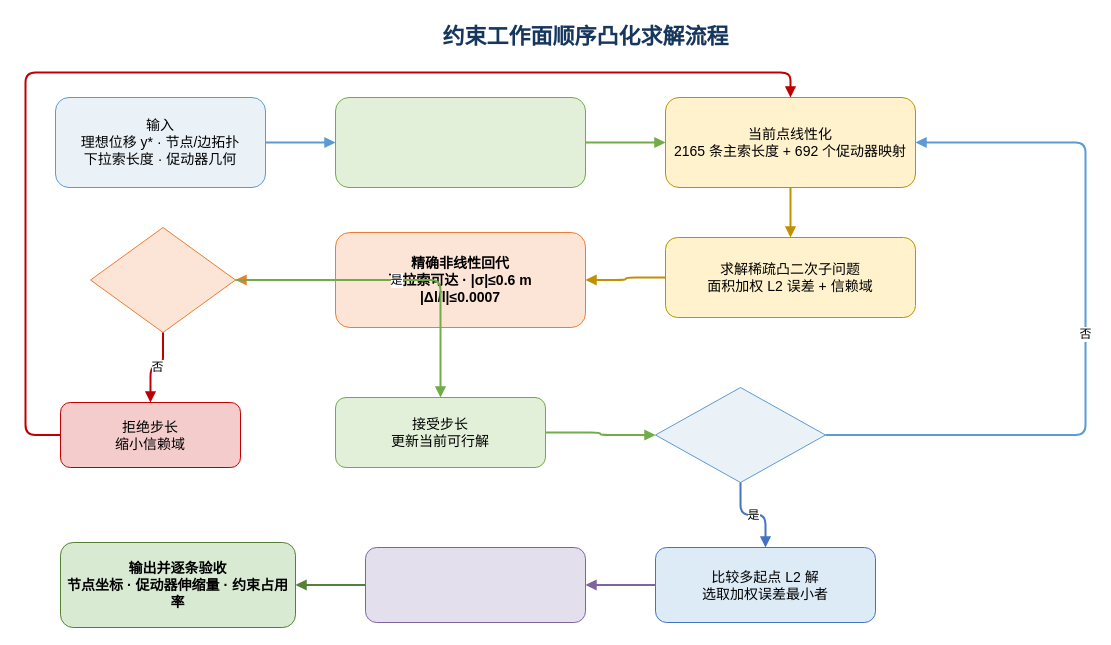
Image size: 1111x645. Some labels were removed from this diagram. Each missing label, with the centre of its shape:
"L∞ 二阶段精修 L2 容差内降低最大节点误差" goes at pixel 475 584.
"严格可行且 L2 目标下降？" goes at pixel 163 279.
"收敛？ 步长与目标变化达阈值" goes at pixel 740 434.
"构造三个严格可行起点 零位移 / 半缩放目标 / 最大可行缩放目标" goes at pixel 460 142.
